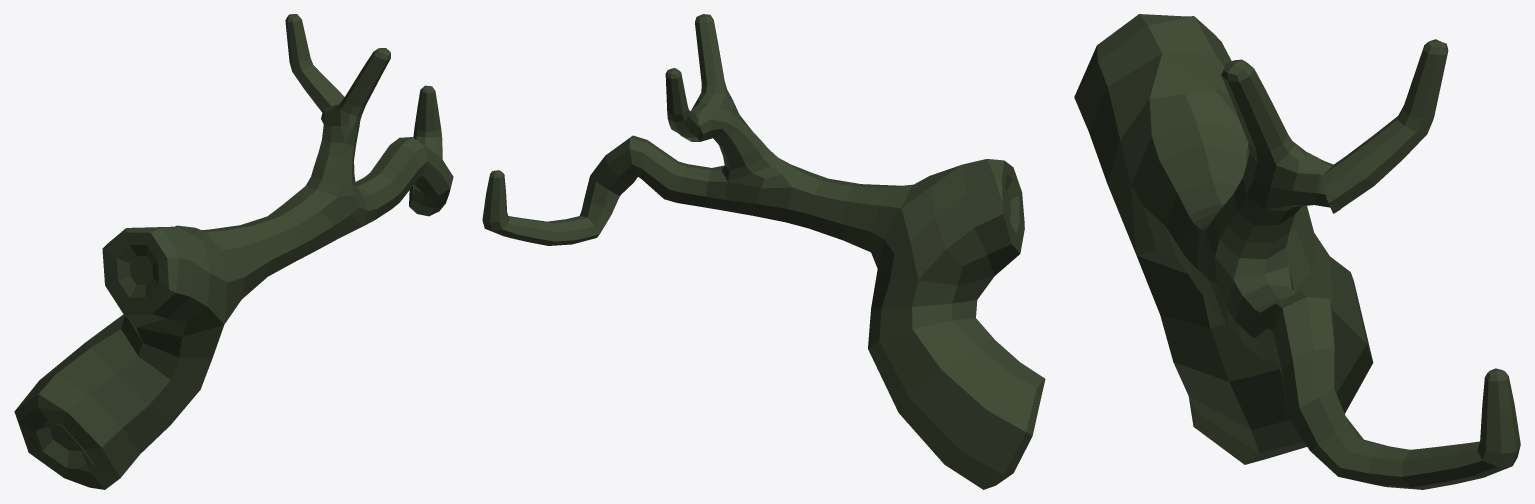
Rendered from EA_Swamp_Root_02a.glb.
3 views of the same model, side by side, from view 1: azimuth 30°, elevation 25°; view 2: azimuth 150°, elevation 25°; view 3: azimuth 270°, elevation 25° (orthographic). The views are drawn at different scales.
Visible parts, largest first — view 1: EA_Swamp_Root_02a; view 2: EA_Swamp_Root_02a; view 3: EA_Swamp_Root_02a.
Boxes of the visible parts, left/top/right/bottom form: EA_Swamp_Root_02a: left=14, top=14, right=453, bottom=489; EA_Swamp_Root_02a: left=482, top=14, right=1045, bottom=489; EA_Swamp_Root_02a: left=1074, top=14, right=1520, bottom=489.
Size of the model in its own units: 3.23 by 2.44 by 1.57.
Materials: 1 (1 with a texture image).
